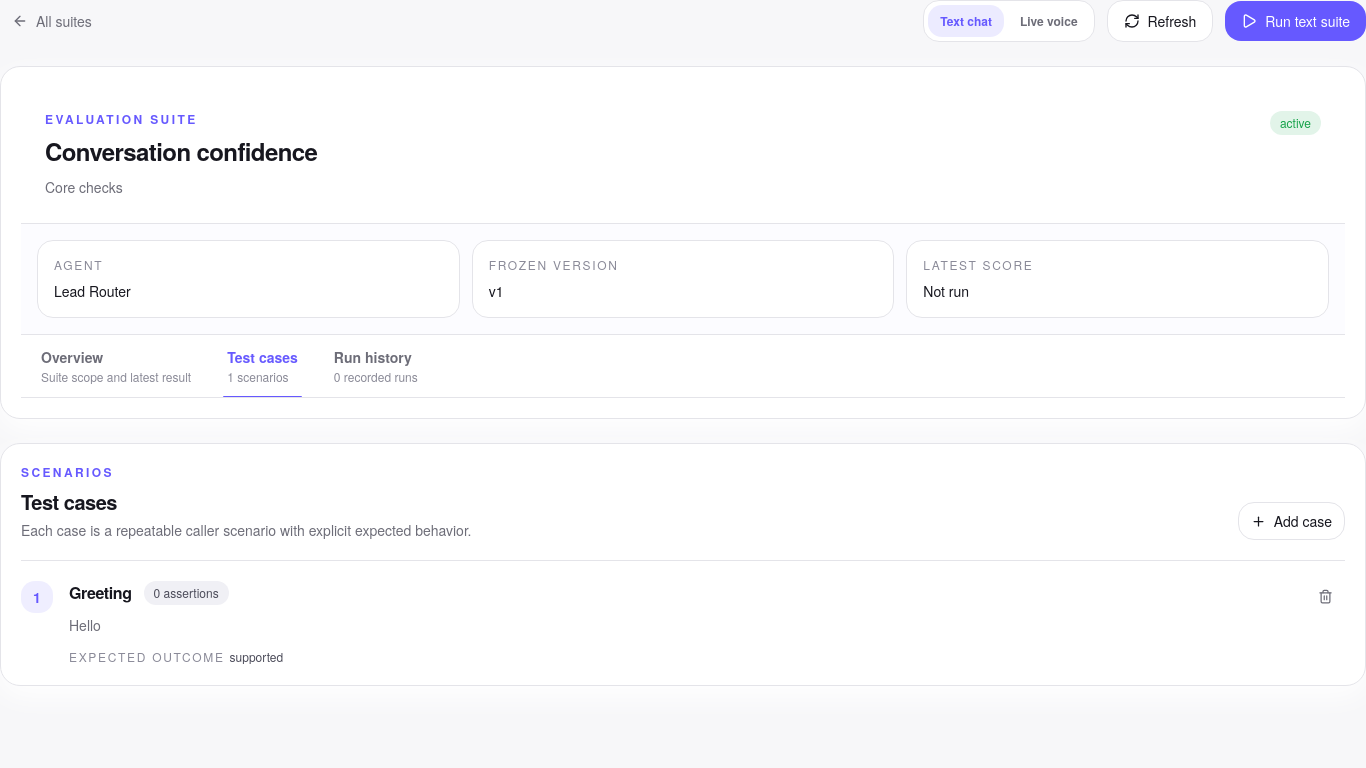
it: EvaluationSuiteScreen › opens with cases and switches to run history
Expected: the heading "Greeting" is shown, [69, 581, 132, 605]
Click the tab "Run history 0 recorded runs": (376, 366) [318, 335, 434, 397]
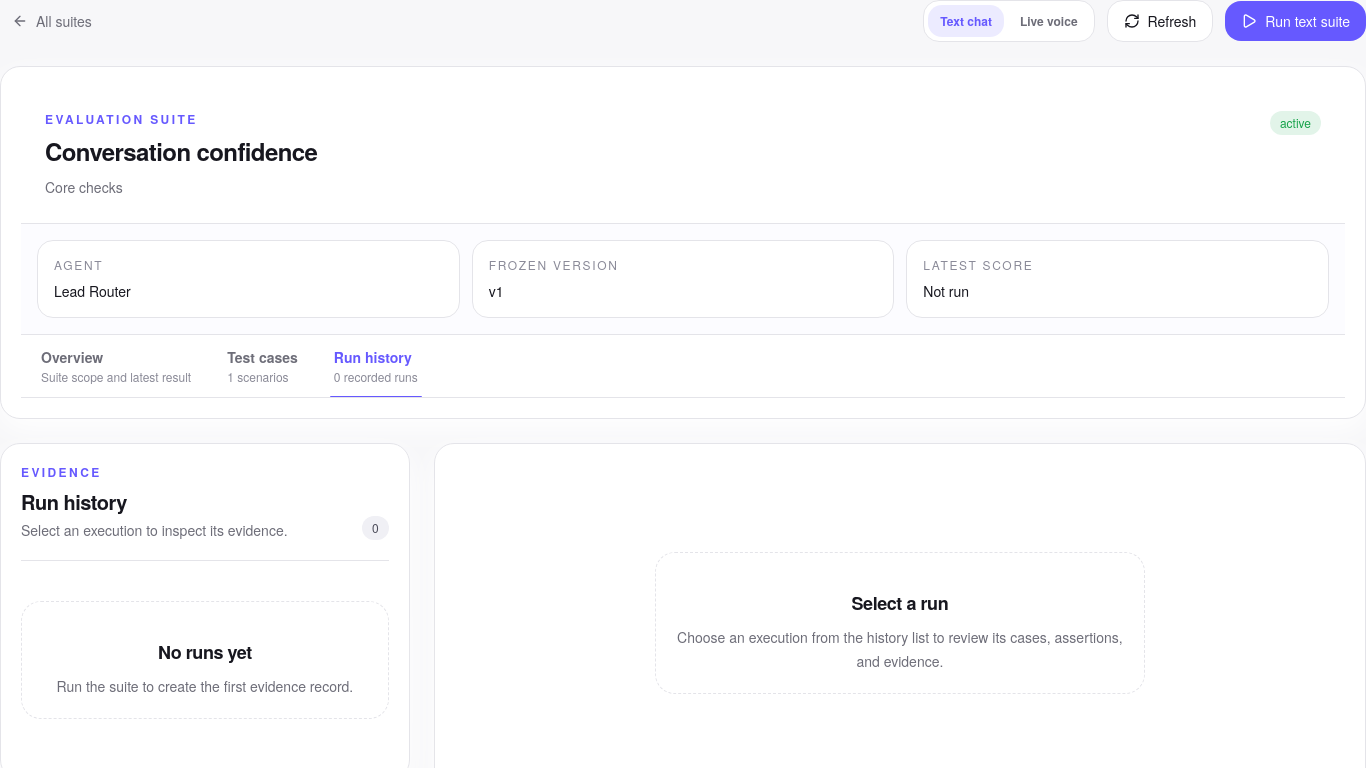
Now the heading "No runs yet" is shown, box [158, 639, 252, 665]
